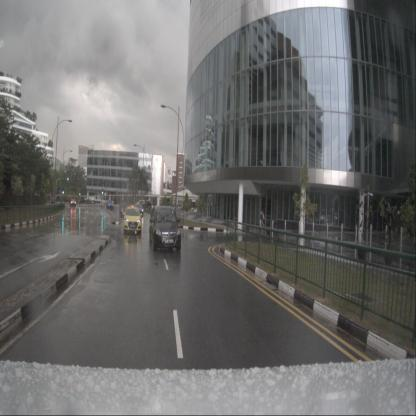human-pedestrian-adult: (260, 208, 265, 228)
vehicle-car: (149, 206, 181, 252), (124, 206, 141, 234), (119, 203, 130, 218), (136, 200, 152, 209), (134, 203, 144, 216), (106, 200, 114, 210), (70, 199, 76, 207)
